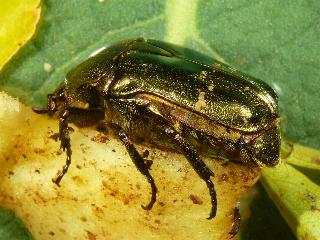Protaetia_fieberi: (33, 34, 282, 224)
